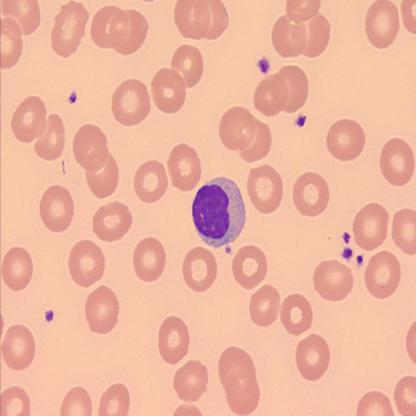Lymphocyte: (190, 174, 248, 249)
